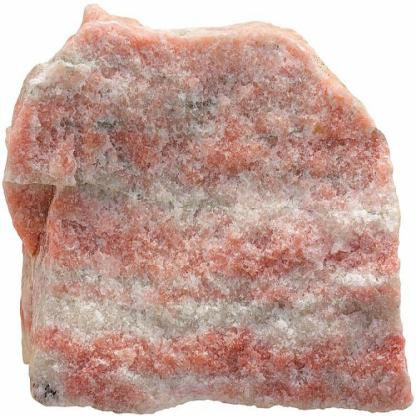Metamorphic_Marble: (6, 4, 416, 415)
